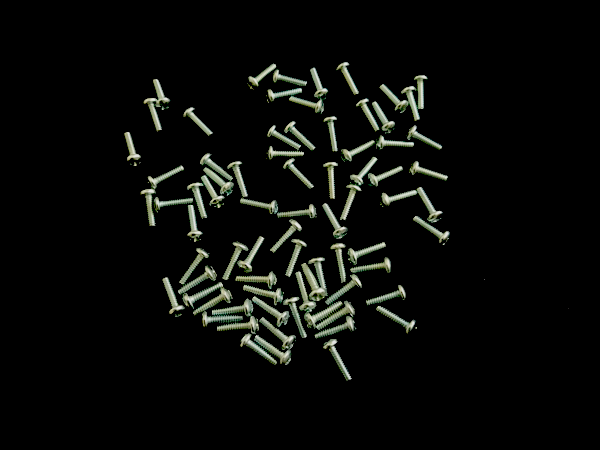shortscrew: (238, 333, 278, 368), (322, 338, 353, 383), (253, 335, 293, 369), (376, 306, 418, 337), (179, 247, 212, 286), (269, 219, 304, 255), (260, 317, 297, 351), (252, 296, 291, 328), (182, 283, 225, 312), (317, 301, 358, 331), (192, 288, 234, 317), (413, 216, 451, 248), (178, 266, 218, 296), (325, 275, 363, 306), (238, 235, 267, 275), (282, 158, 316, 192), (304, 302, 345, 330), (315, 316, 358, 342), (222, 241, 249, 282), (183, 107, 216, 140), (365, 284, 408, 309), (283, 296, 308, 339), (162, 277, 187, 320), (284, 238, 310, 279), (322, 203, 350, 241), (406, 125, 445, 152), (146, 165, 185, 192), (417, 187, 445, 224), (347, 241, 388, 266), (285, 120, 317, 152), (199, 153, 234, 182), (302, 263, 327, 303), (243, 285, 285, 308), (203, 168, 235, 198), (266, 125, 302, 151), (339, 184, 363, 223), (379, 84, 409, 115), (246, 64, 278, 93), (340, 139, 377, 164), (200, 176, 227, 210), (371, 101, 397, 136), (308, 255, 329, 298), (349, 157, 378, 188), (409, 161, 449, 183), (216, 316, 260, 336), (187, 183, 210, 221), (368, 165, 404, 189), (201, 311, 244, 331), (378, 188, 417, 210), (209, 299, 254, 318), (228, 161, 250, 199), (151, 196, 195, 215), (336, 62, 360, 96), (236, 271, 278, 290), (357, 98, 380, 132), (240, 198, 279, 218), (329, 243, 348, 284), (278, 204, 318, 223), (289, 96, 325, 117), (351, 257, 393, 275), (401, 86, 421, 123), (144, 98, 164, 135), (123, 132, 143, 168), (266, 87, 303, 106), (273, 69, 309, 88), (266, 146, 304, 164), (322, 163, 340, 201), (187, 205, 205, 243), (375, 135, 415, 152), (141, 189, 158, 229), (152, 79, 173, 111), (310, 68, 330, 100), (324, 116, 339, 154), (413, 75, 429, 109)
